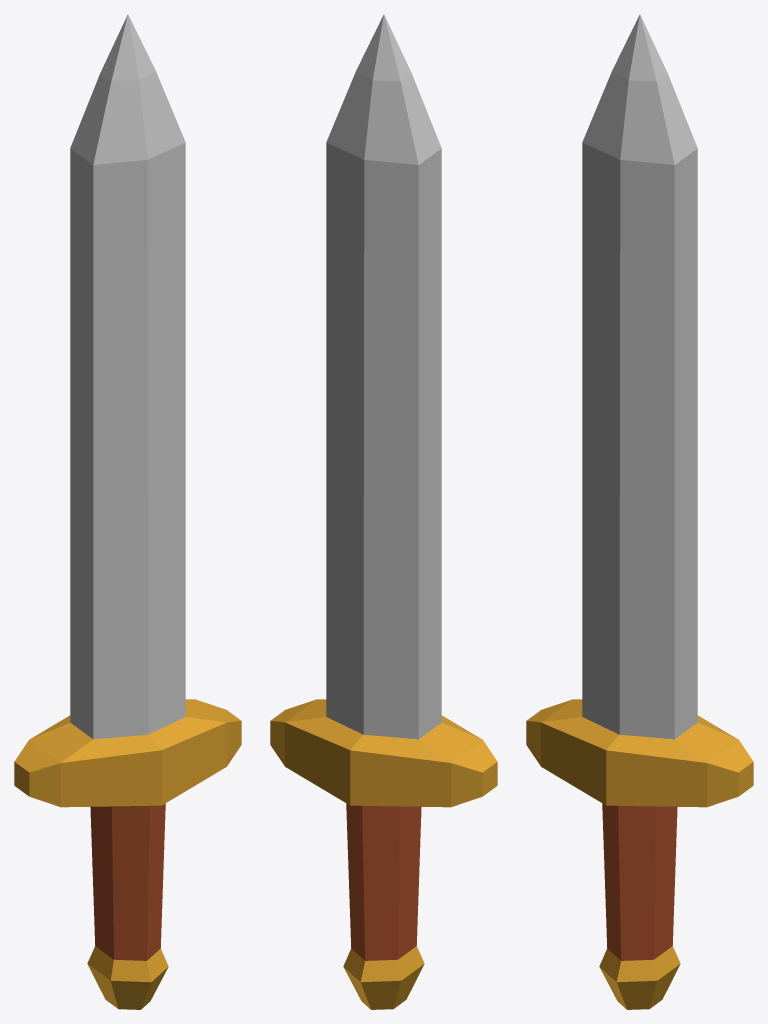
Rendered from SimpleSword.fbx.
3 renders of one model, left to right at view 1: azimuth 30°, elevation 25°; view 2: azimuth 150°, elevation 25°; view 3: azimuth 330°, elevation 25°, orthographic.
Visible parts, largest first — view 1: Cylinder; view 2: Cylinder; view 3: Cylinder.
Part boxes in pixels (left/top/right/bottom): Cylinder: left=14, top=14, right=241, bottom=1009; Cylinder: left=270, top=14, right=497, bottom=1009; Cylinder: left=526, top=14, right=753, bottom=1009.
Bounding box in the file's own units: 246 × 1094 × 136.
